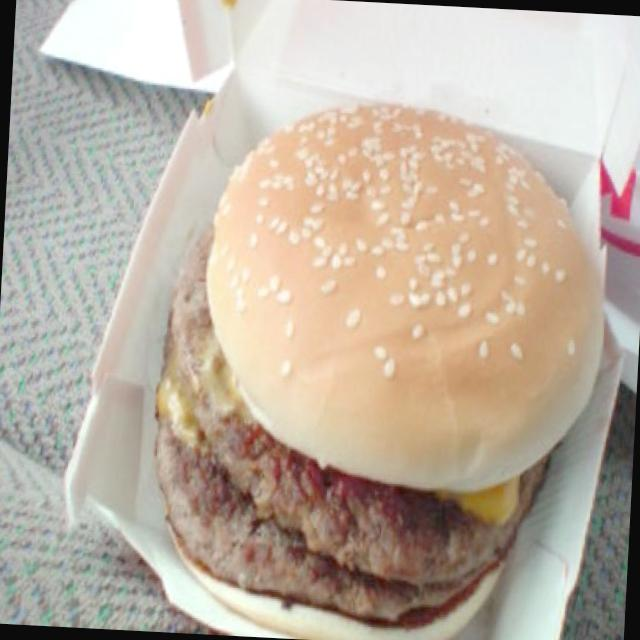Hamburger: (161, 95, 616, 640)
